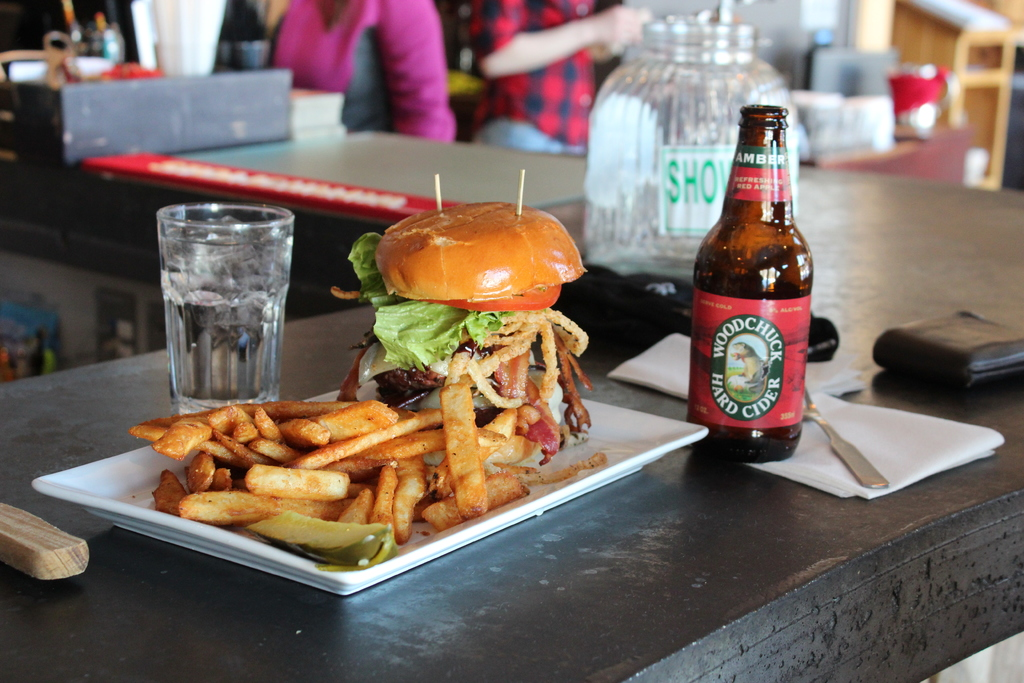French fries: (114, 370, 584, 567)
